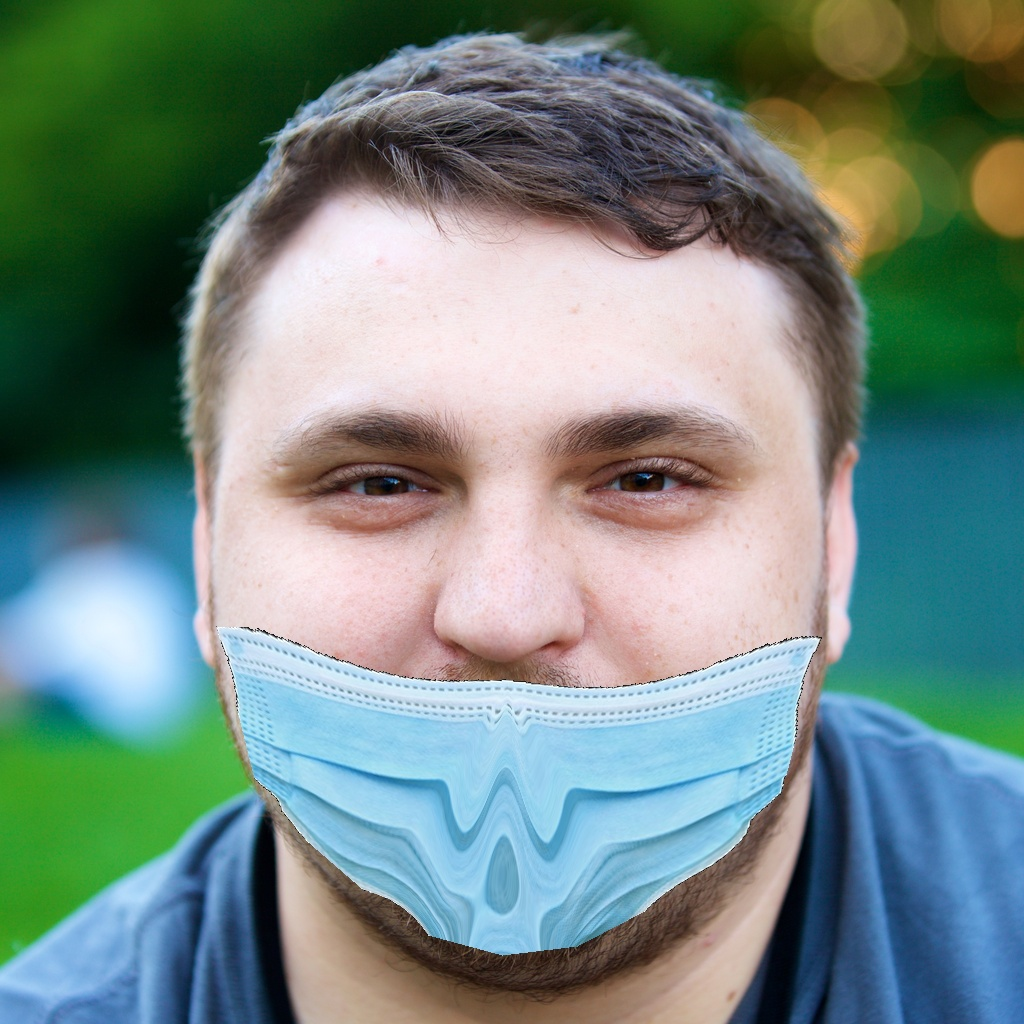mascarilla_mal_puesta: (209, 405, 834, 958)
